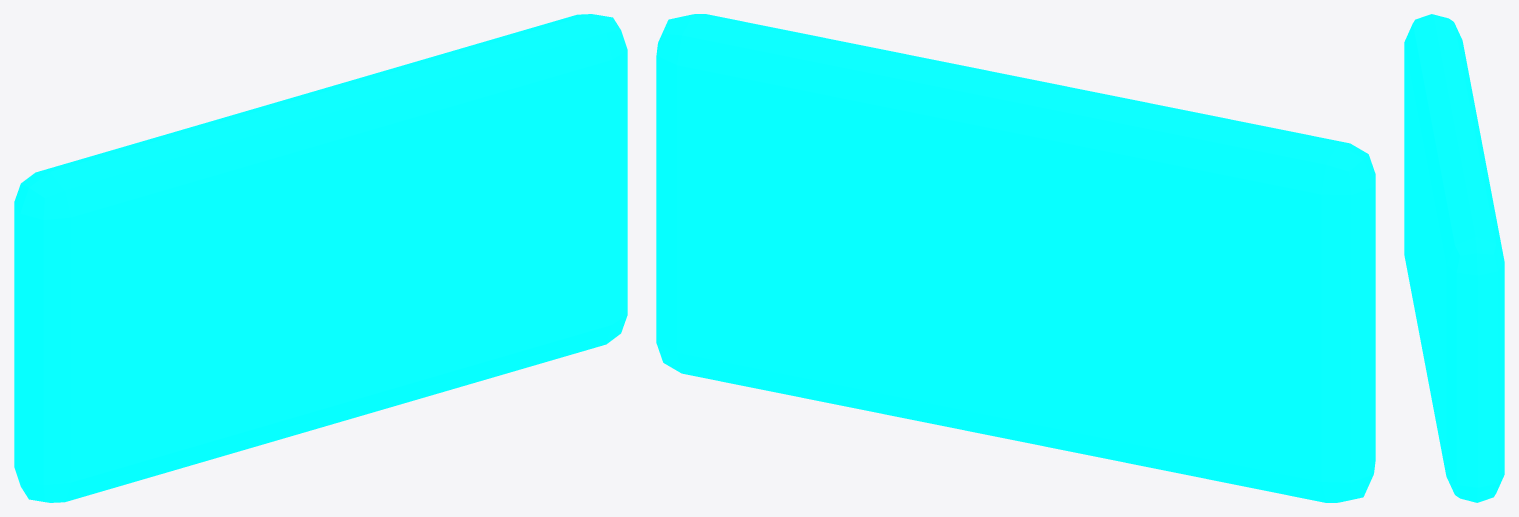
File: Veteran_MissionSticker_01.glb
The picture shows the model from 3 angles, left to right: view 1: azimuth 30°, elevation 25°; view 2: azimuth 150°, elevation 25°; view 3: azimuth 270°, elevation 25°; orthographic projection. The views are drawn at different scales.
Visible parts, largest first — view 1: Veteran_MissionSticker_01; view 2: Veteran_MissionSticker_01; view 3: Veteran_MissionSticker_01.
Part boxes in pixels (x1,y1,x2,y2): Veteran_MissionSticker_01: [14, 14, 627, 502]; Veteran_MissionSticker_01: [656, 14, 1375, 502]; Veteran_MissionSticker_01: [1404, 14, 1504, 502].
Bounding box in the file's own units: 0.1994 × 0.1 × 0.0343.
